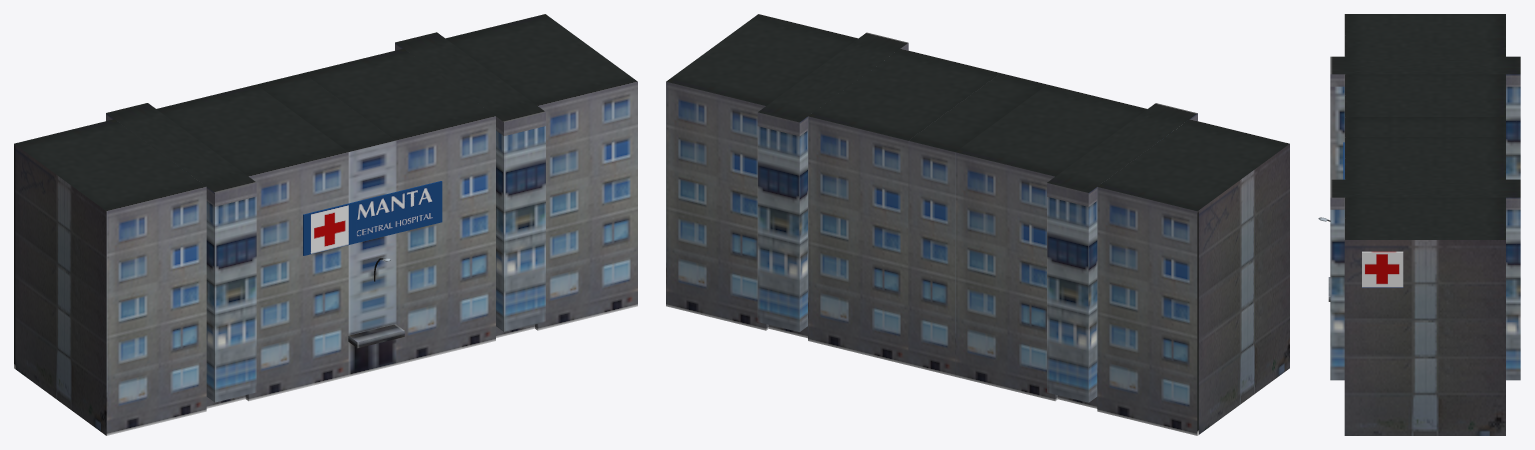
Rendered from Hospital.fbx.
The picture shows the model from 3 angles, left to right: view 1: azimuth 30°, elevation 25°; view 2: azimuth 150°, elevation 25°; view 3: azimuth 270°, elevation 25°; orthographic projection. The views are drawn at different scales.
Parts seen in each view (by area): view 1: Hospital; view 2: Hospital; view 3: Hospital.
Boxes of the visible parts, x1,y1,x2,y2 form: Hospital: (14,14,637,435); Hospital: (666,14,1289,435); Hospital: (1318,14,1520,435).
Size of the model in its own units: 10405 by 4194 by 3923.
